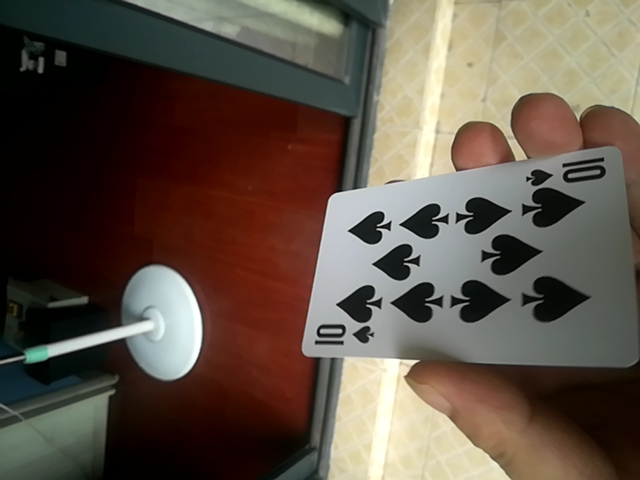ht 10: (295, 142, 639, 367)
